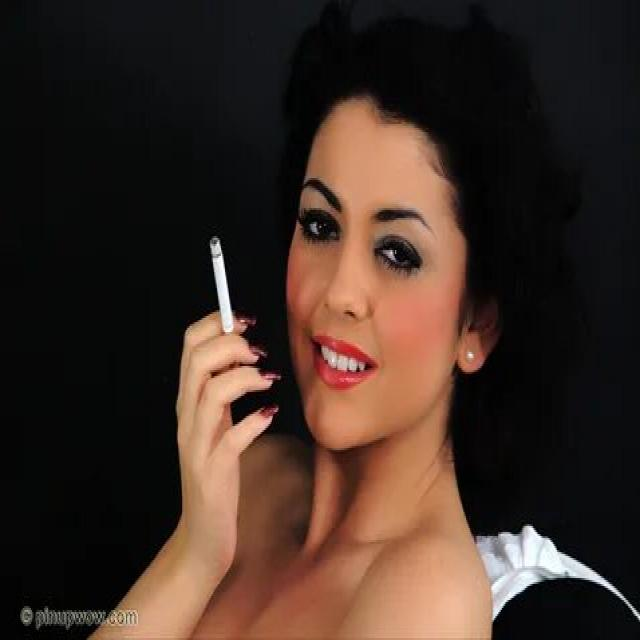cigarette: (205, 230, 238, 348)
